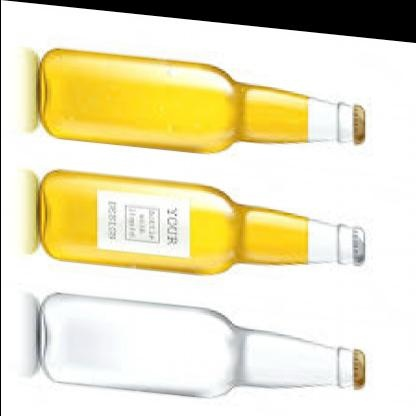trash: (39, 49, 364, 152), (40, 171, 364, 273), (40, 294, 364, 396)
